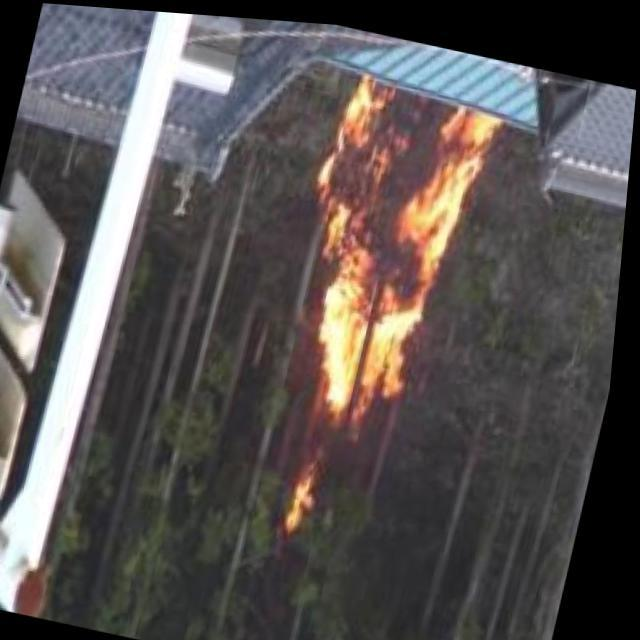fire: (267, 68, 503, 450)
